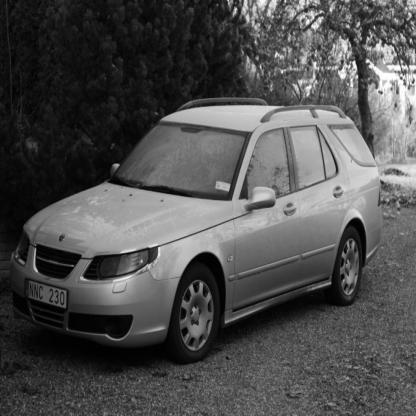Car: (12, 98, 383, 365)
